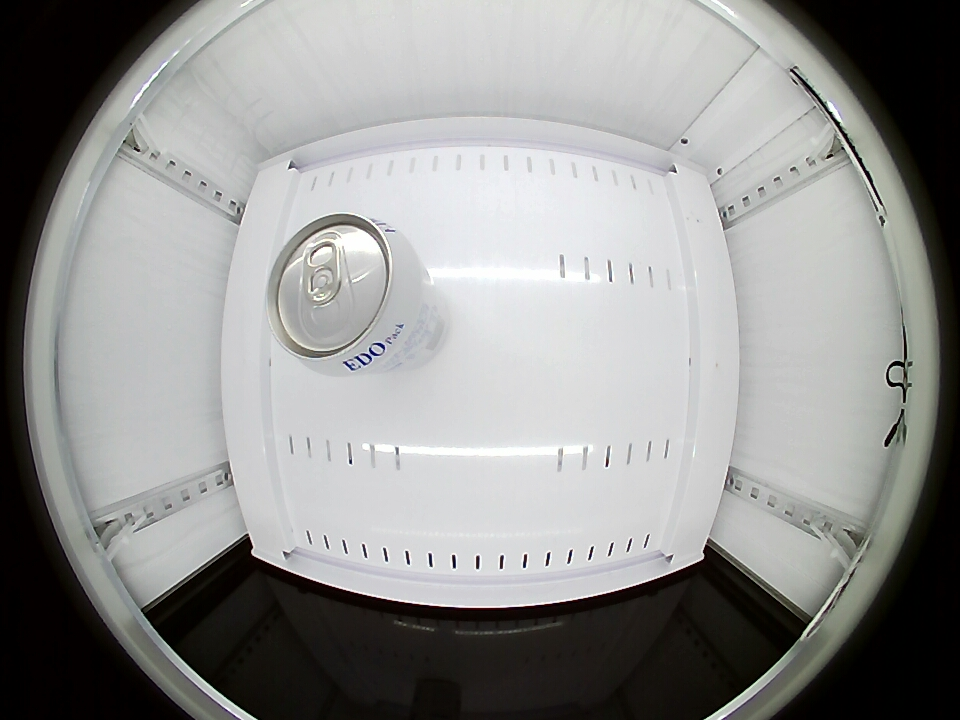rusuanjunqishui: (266, 213, 427, 375)
